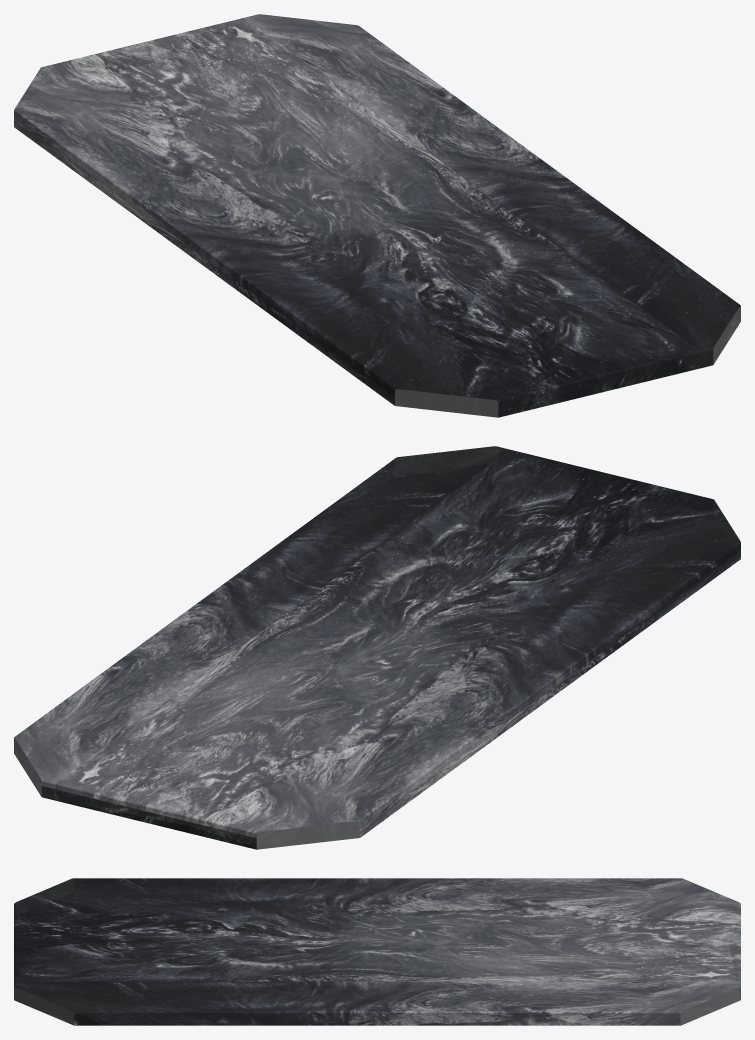
Rendered from tabletop-epoxy-angled-corners-source.glb.
3 renders of one model, top to bottom at view 1: azimuth 30°, elevation 25°; view 2: azimuth 150°, elevation 25°; view 3: azimuth 270°, elevation 25°, orthographic. The views are drawn at different scales.
Visible parts, largest first — view 1: tabletop_epoxy_angled_corners_source; view 2: tabletop_epoxy_angled_corners_source; view 3: tabletop_epoxy_angled_corners_source.
Part boxes in pixels (x1=…): tabletop_epoxy_angled_corners_source: x1=14, y1=14, x2=740, y2=417; tabletop_epoxy_angled_corners_source: x1=14, y1=446, x2=740, y2=849; tabletop_epoxy_angled_corners_source: x1=14, y1=878, x2=740, y2=1025.
Size of the model in its own units: 1.07 by 0.0508 by 2.44.
Materials: 1 (1 with a texture image).
